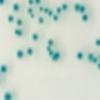Blue_green: (15, 48, 25, 60), (31, 32, 41, 44), (24, 47, 34, 58), (3, 90, 13, 100), (0, 62, 8, 74), (75, 49, 83, 61), (14, 28, 24, 37), (53, 51, 61, 62), (16, 18, 24, 28), (12, 2, 20, 12), (37, 16, 45, 26), (87, 53, 94, 64), (6, 14, 14, 23), (47, 38, 55, 47), (61, 3, 69, 12), (47, 8, 54, 18), (81, 15, 89, 23), (52, 13, 58, 23), (26, 7, 34, 14), (56, 7, 63, 15), (80, 5, 86, 14), (75, 3, 80, 13), (28, 13, 35, 20), (92, 56, 98, 64), (94, 38, 100, 46), (39, 6, 45, 14), (26, 1, 34, 6), (34, 0, 42, 5), (48, 49, 53, 57), (44, 6, 49, 14), (44, 46, 50, 52), (96, 62, 100, 71), (0, 0, 4, 7)
